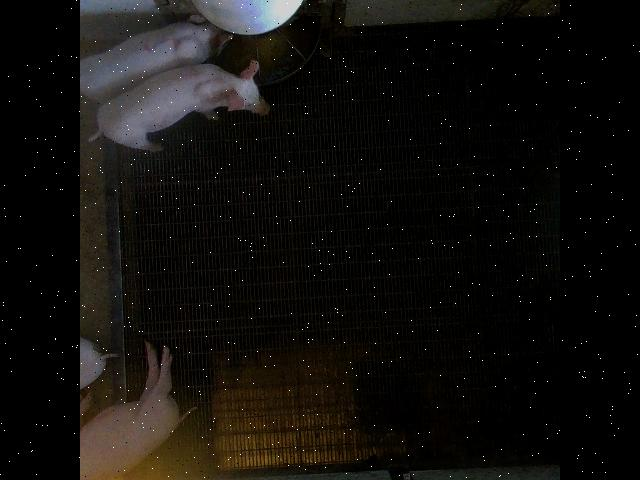pig-5: (81, 14, 232, 102)
